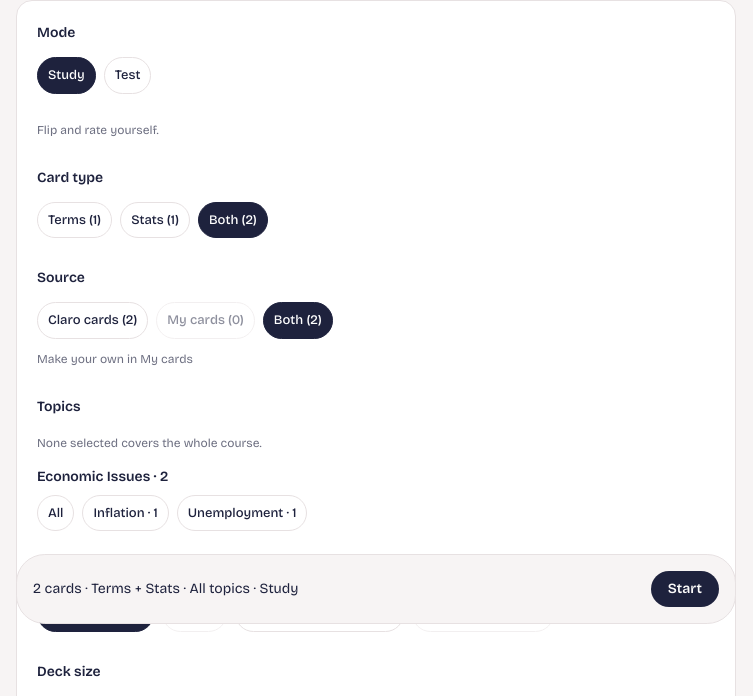
Test: starts with no pressed topics and the All chip toggles its parent
Click the button "All": {"x": 56, "y": 513} [37,495,74,531]
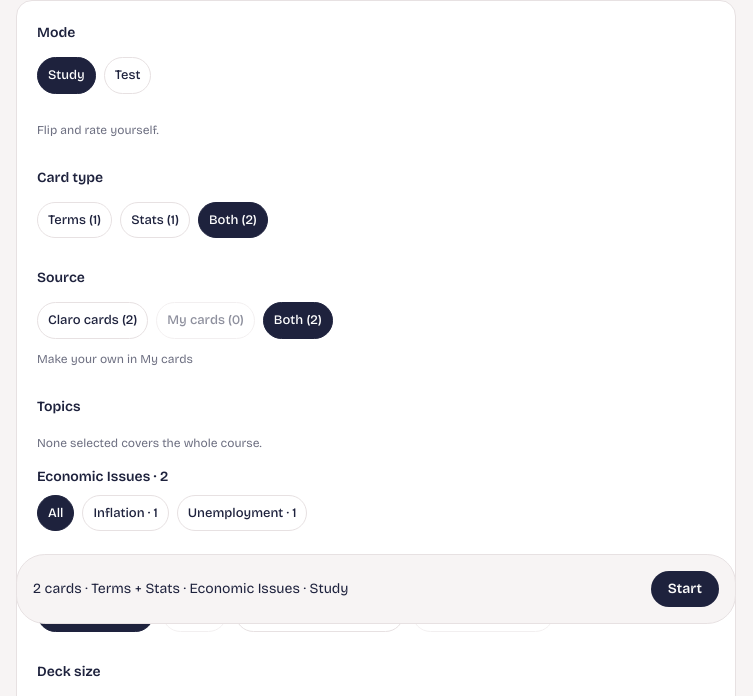
expect the button "All" is pressed: met
Click the button "All": {"x": 56, "y": 513} [37,495,74,531]
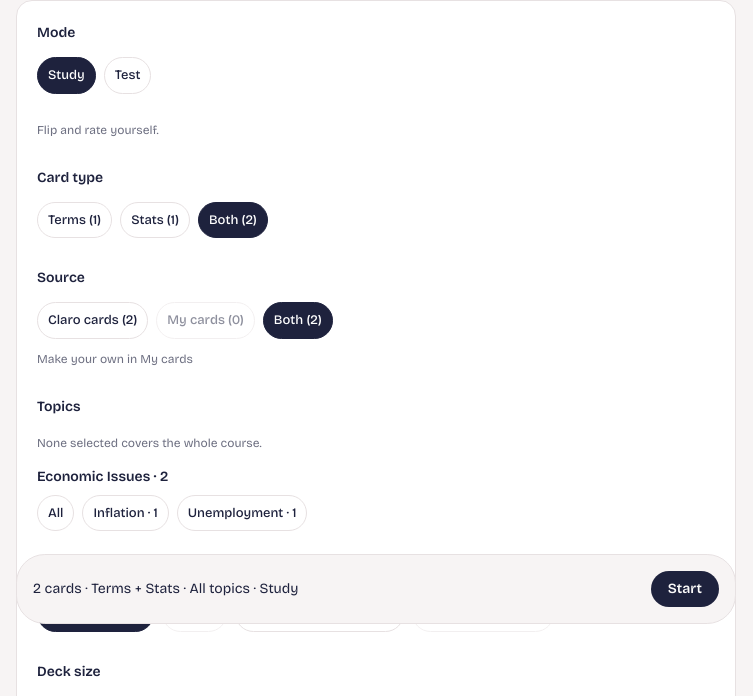
expect the button "All" is not pressed: met, box [37,495,74,531]
Click the button "Inflation · 1": {"x": 126, "y": 513} [82,495,169,531]
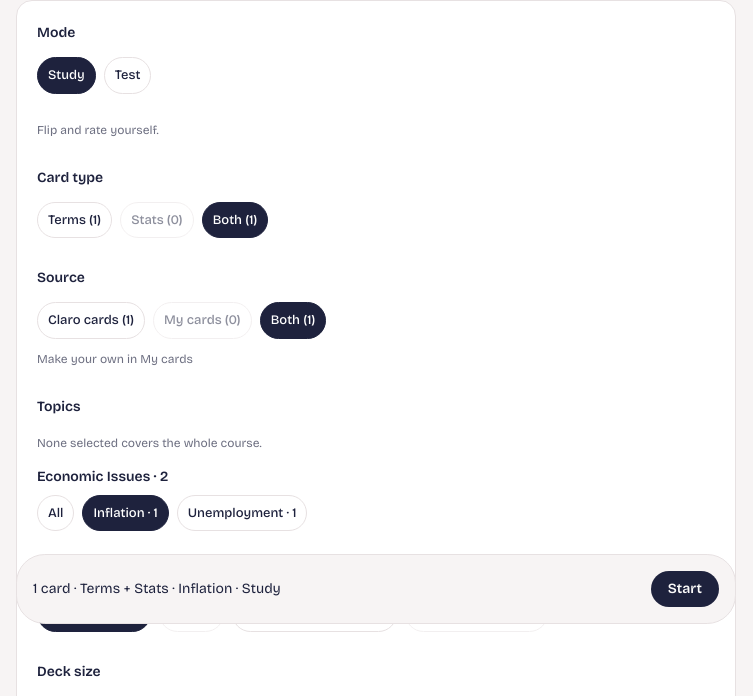
Click the button "Inflation · 1": {"x": 126, "y": 513} [82,495,169,531]
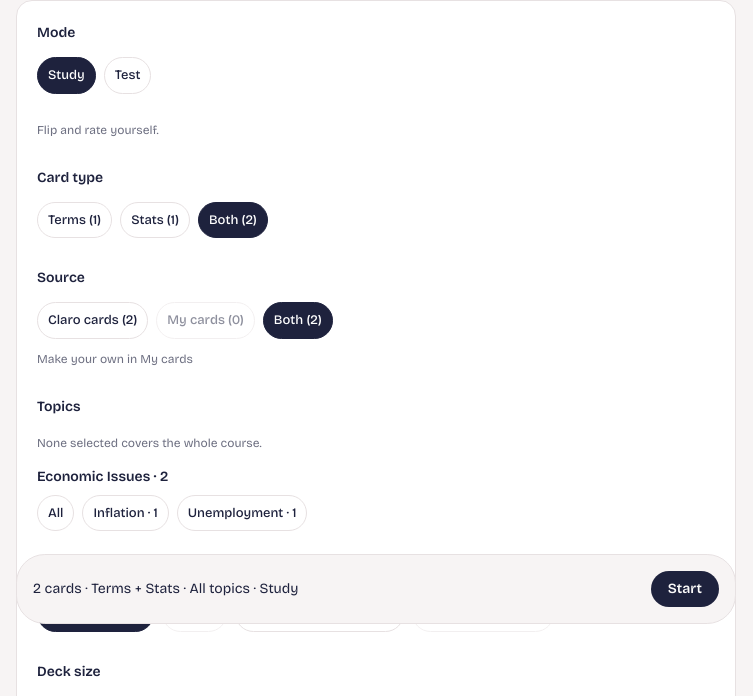
expect the text "2 cards · Terms + Stats · All topics · Study" is shown: met, box [33,579,298,599]
